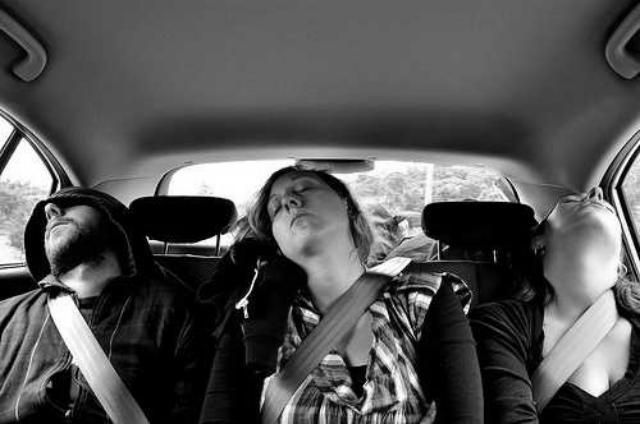SafeDriving: (282, 195, 300, 211)
Seatbelt: (258, 256, 416, 424), (42, 289, 155, 424), (528, 288, 622, 420)
